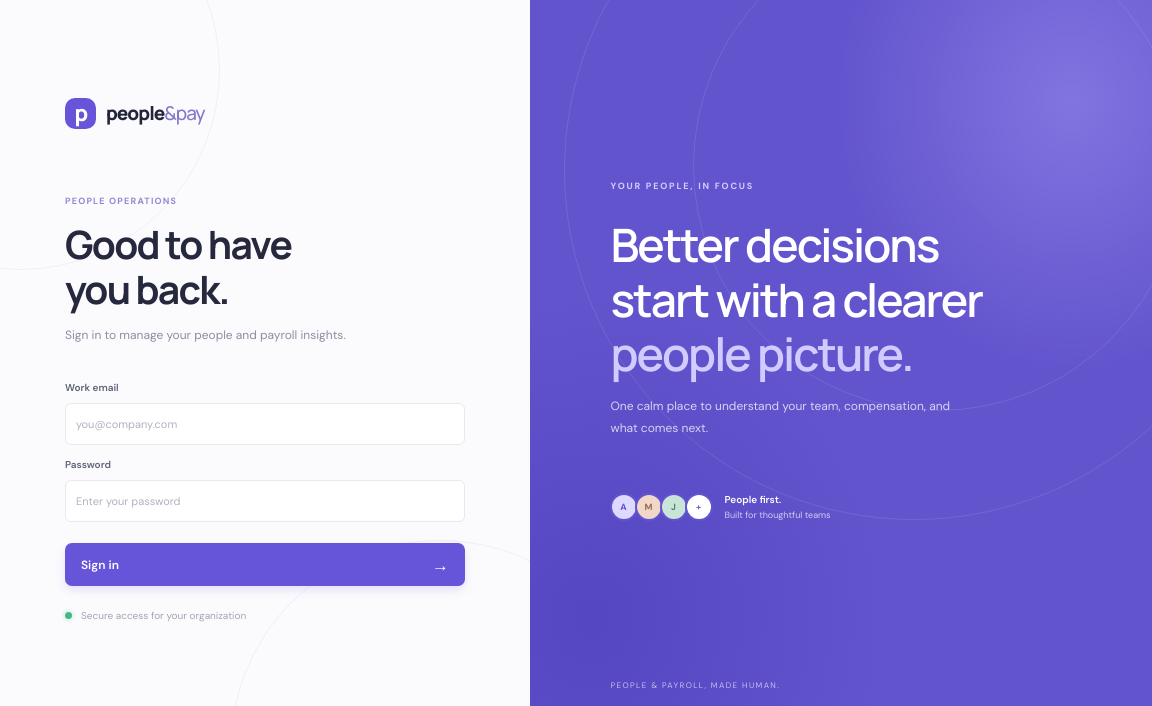
People & Pay app › signs in and loads the employee summary
Type "hr@example.com" into the field labelled "Work email". click: (265, 424)
box: [65, 403, 465, 445]
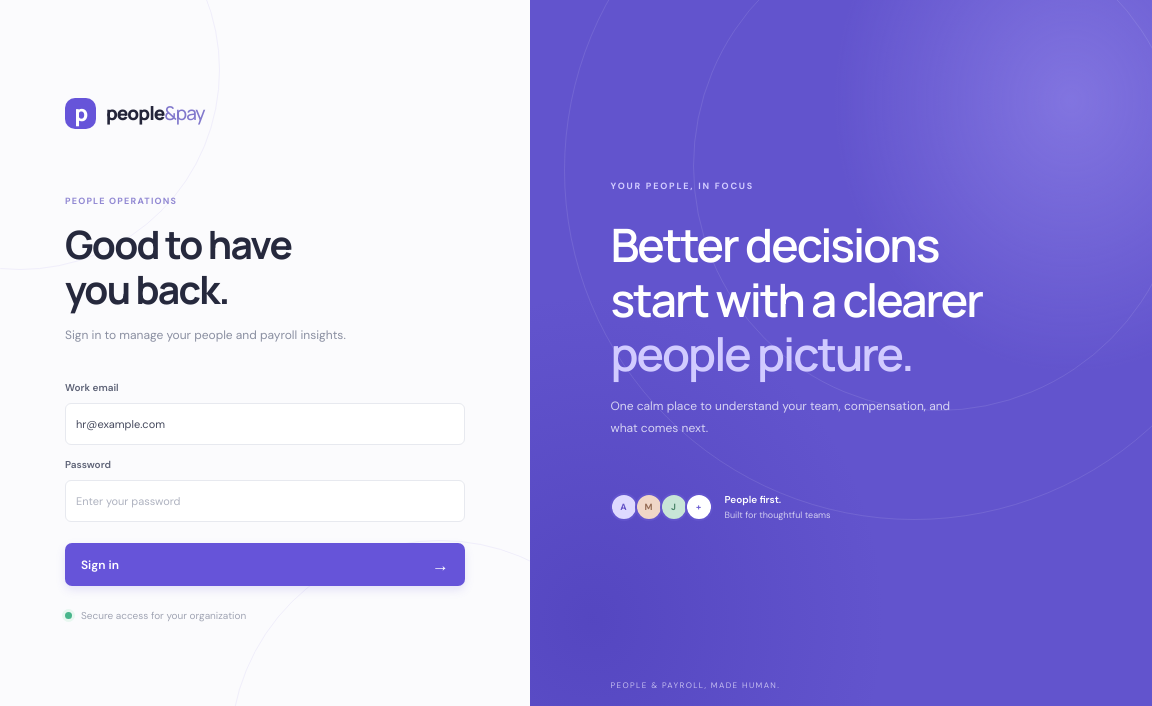
Type "password" into the password field labelled "Password". click: (265, 501)
box: [65, 480, 465, 522]
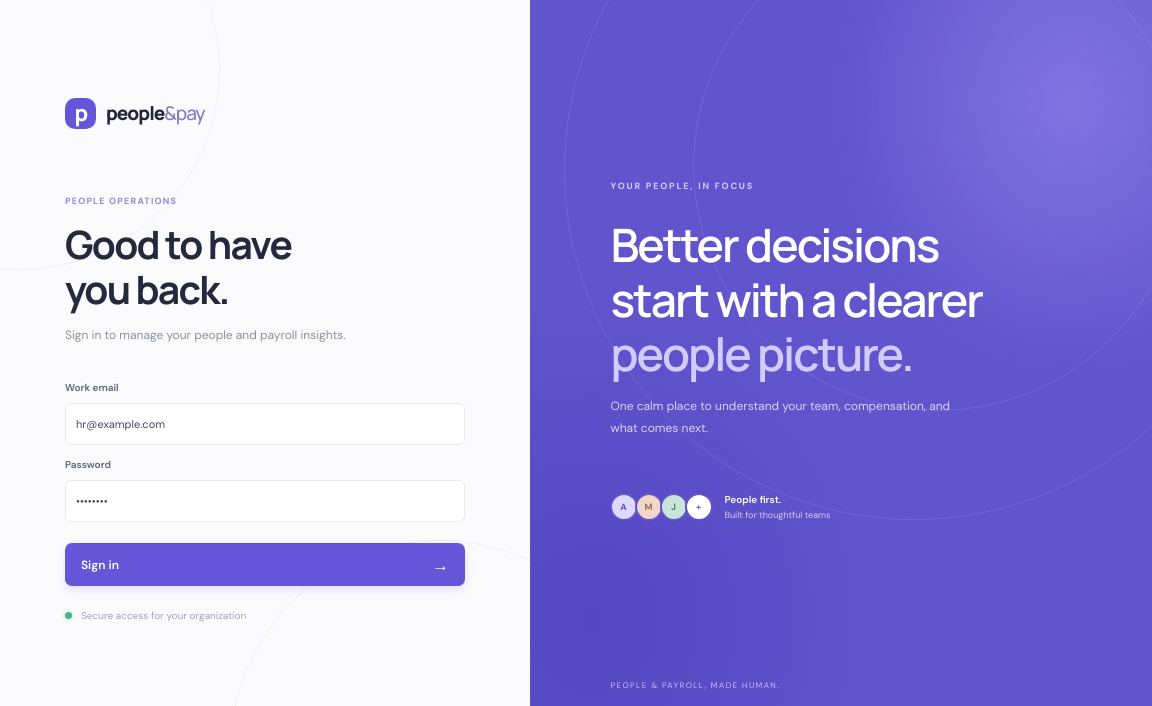
Click the button "Sign in →". click: (100, 565)
box: [65, 543, 465, 586]
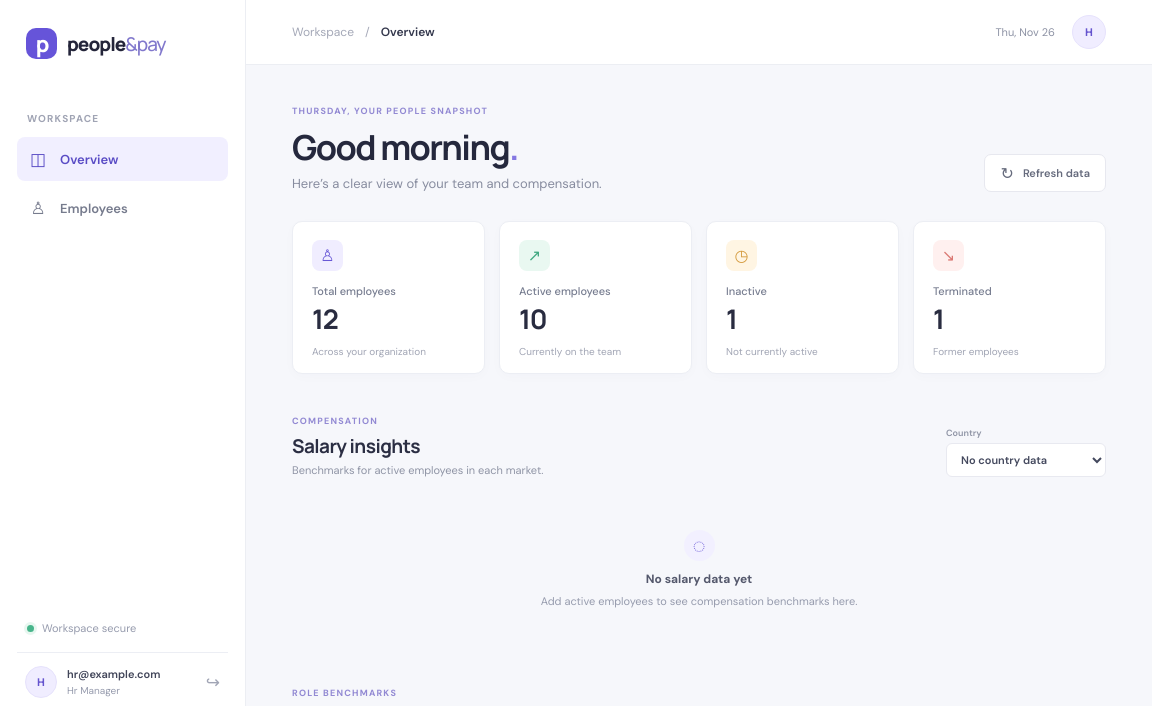
Result: the heading "Good morning." is shown at [292, 123, 518, 170]
Result: the text "12" is shown at [312, 300, 338, 337]
